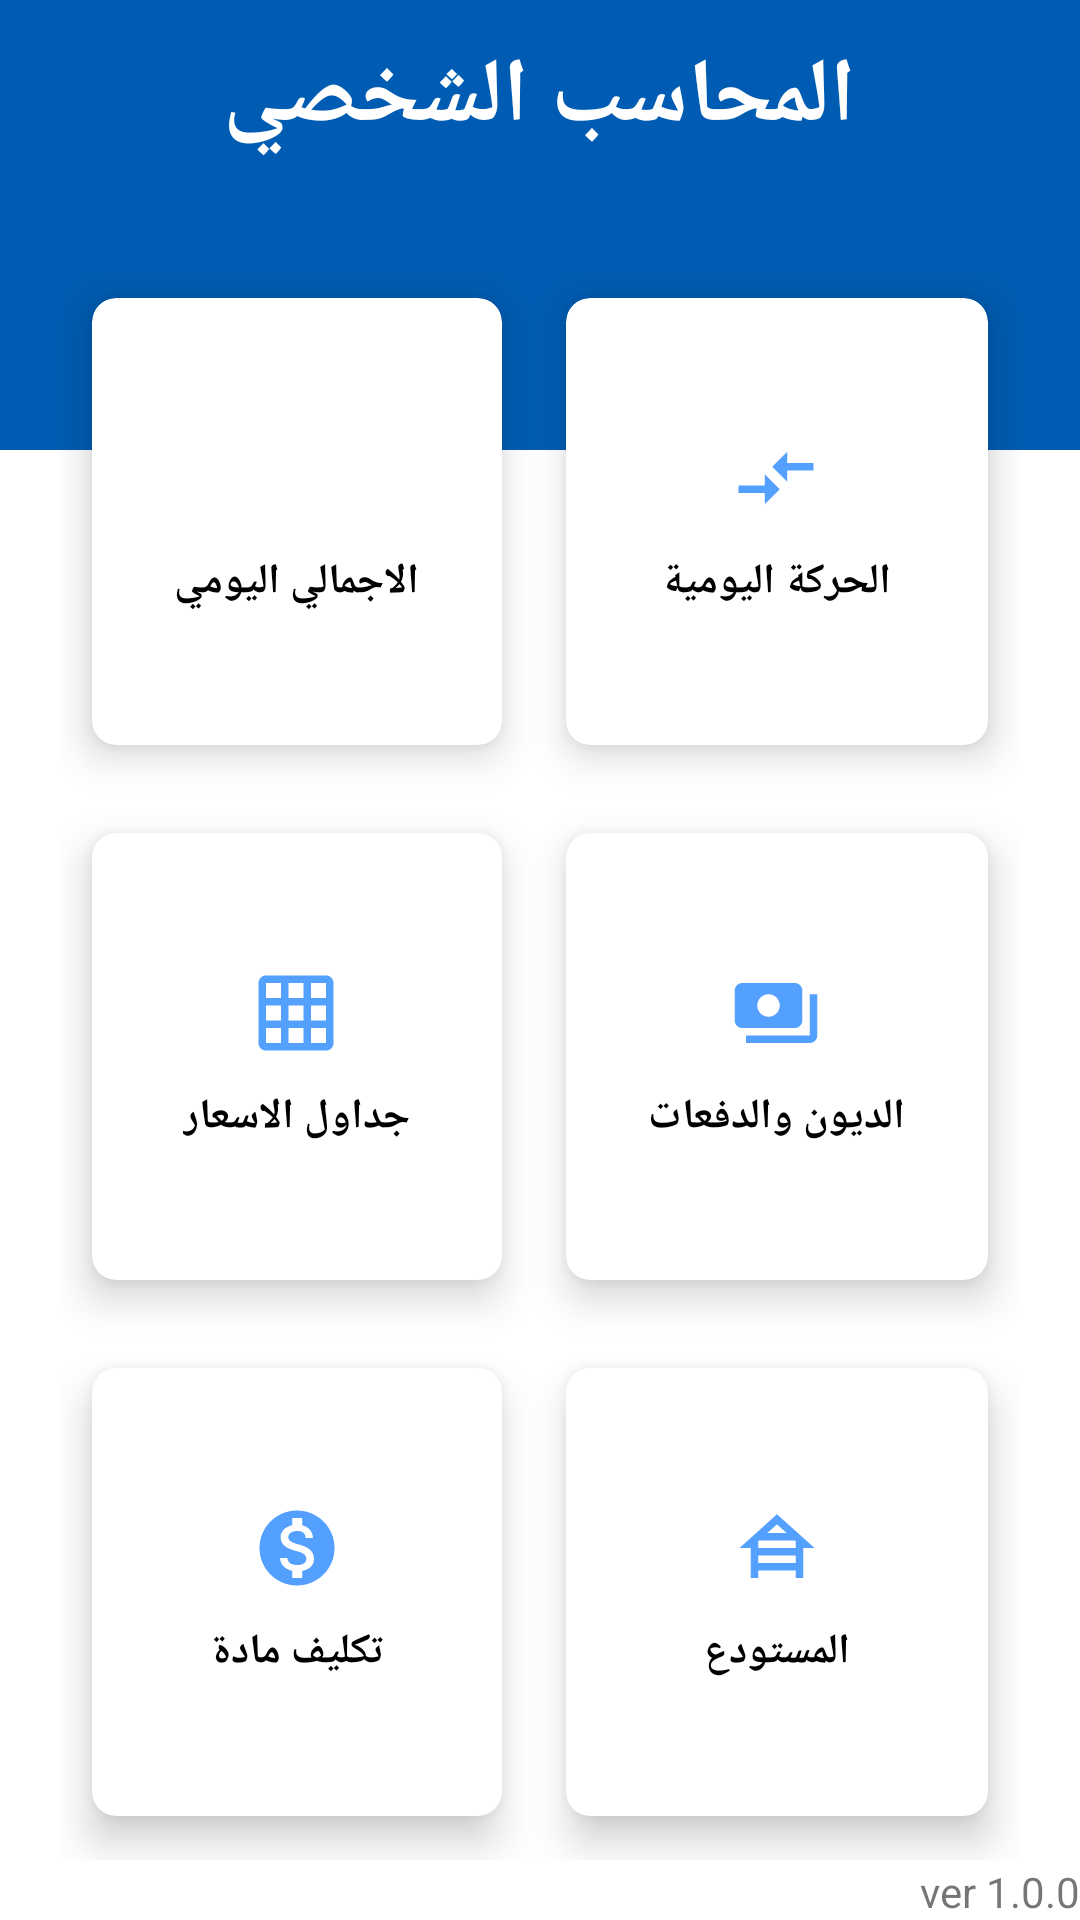

Where to tap for icons on this 1080 × 1920 app screen, as (x,y):
compare arrows: (776,478)
grid: (296,1013)
money: (297,1548)
payments: (776,1013)
warehouse: (777,1546)
